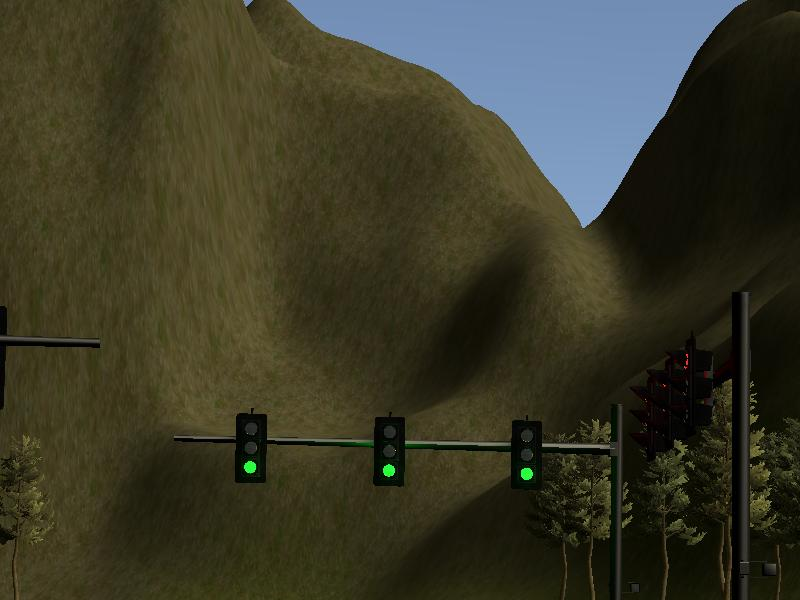green: (509, 418, 544, 491), (372, 416, 407, 486), (234, 410, 267, 483)
